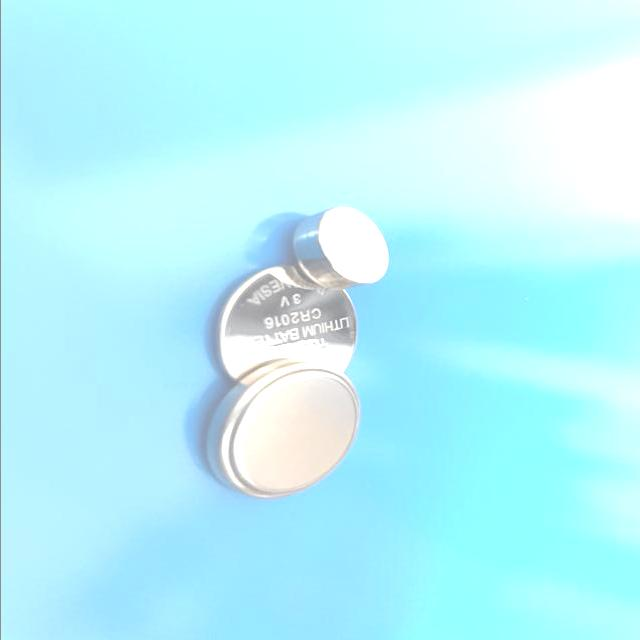COIN: (201, 357, 363, 498), (210, 264, 359, 388), (288, 204, 393, 292)
